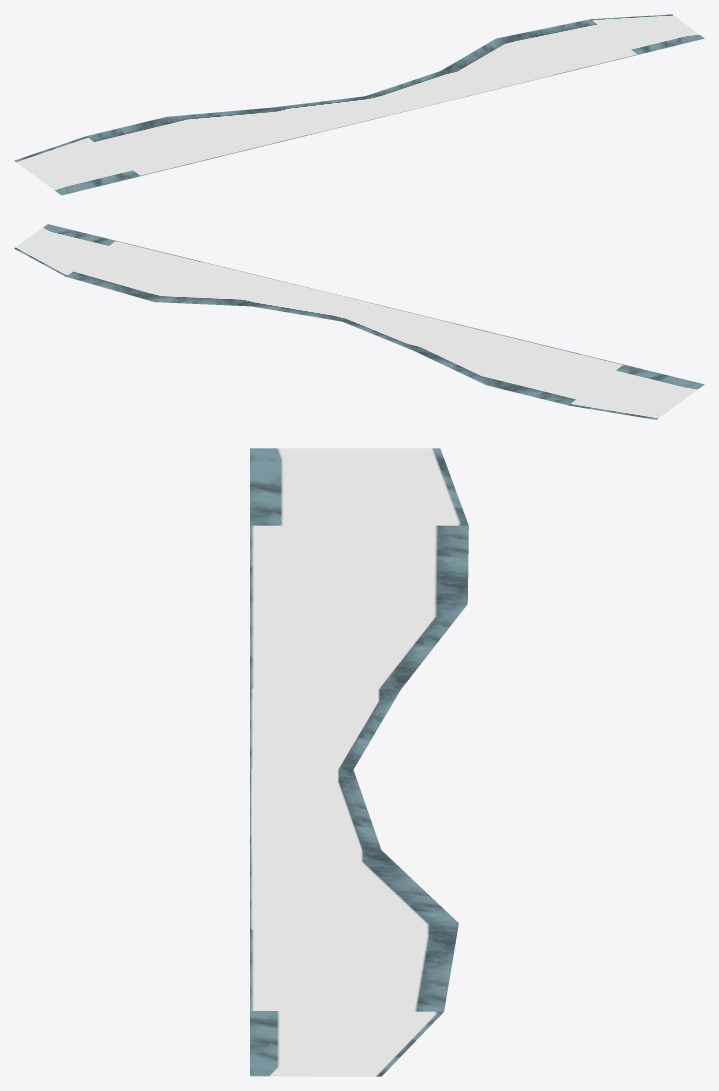
Rendered from dibiaocaoditiekuai-03.FBX.
3 renders of one model, top to bottom at view 1: azimuth 30°, elevation 25°; view 2: azimuth 150°, elevation 25°; view 3: azimuth 270°, elevation 25°, orthographic. The views are drawn at different scales.
Visible parts, largest first — view 1: Sphere002; view 2: Sphere002; view 3: Sphere002.
Part boxes in pixels (bbox=[...]): Sphere002: bbox=[14, 14, 704, 195]; Sphere002: bbox=[14, 224, 704, 419]; Sphere002: bbox=[250, 448, 468, 1076].
Size of the model in its own units: 23.46 by 9.78e-16 by 3.45.
